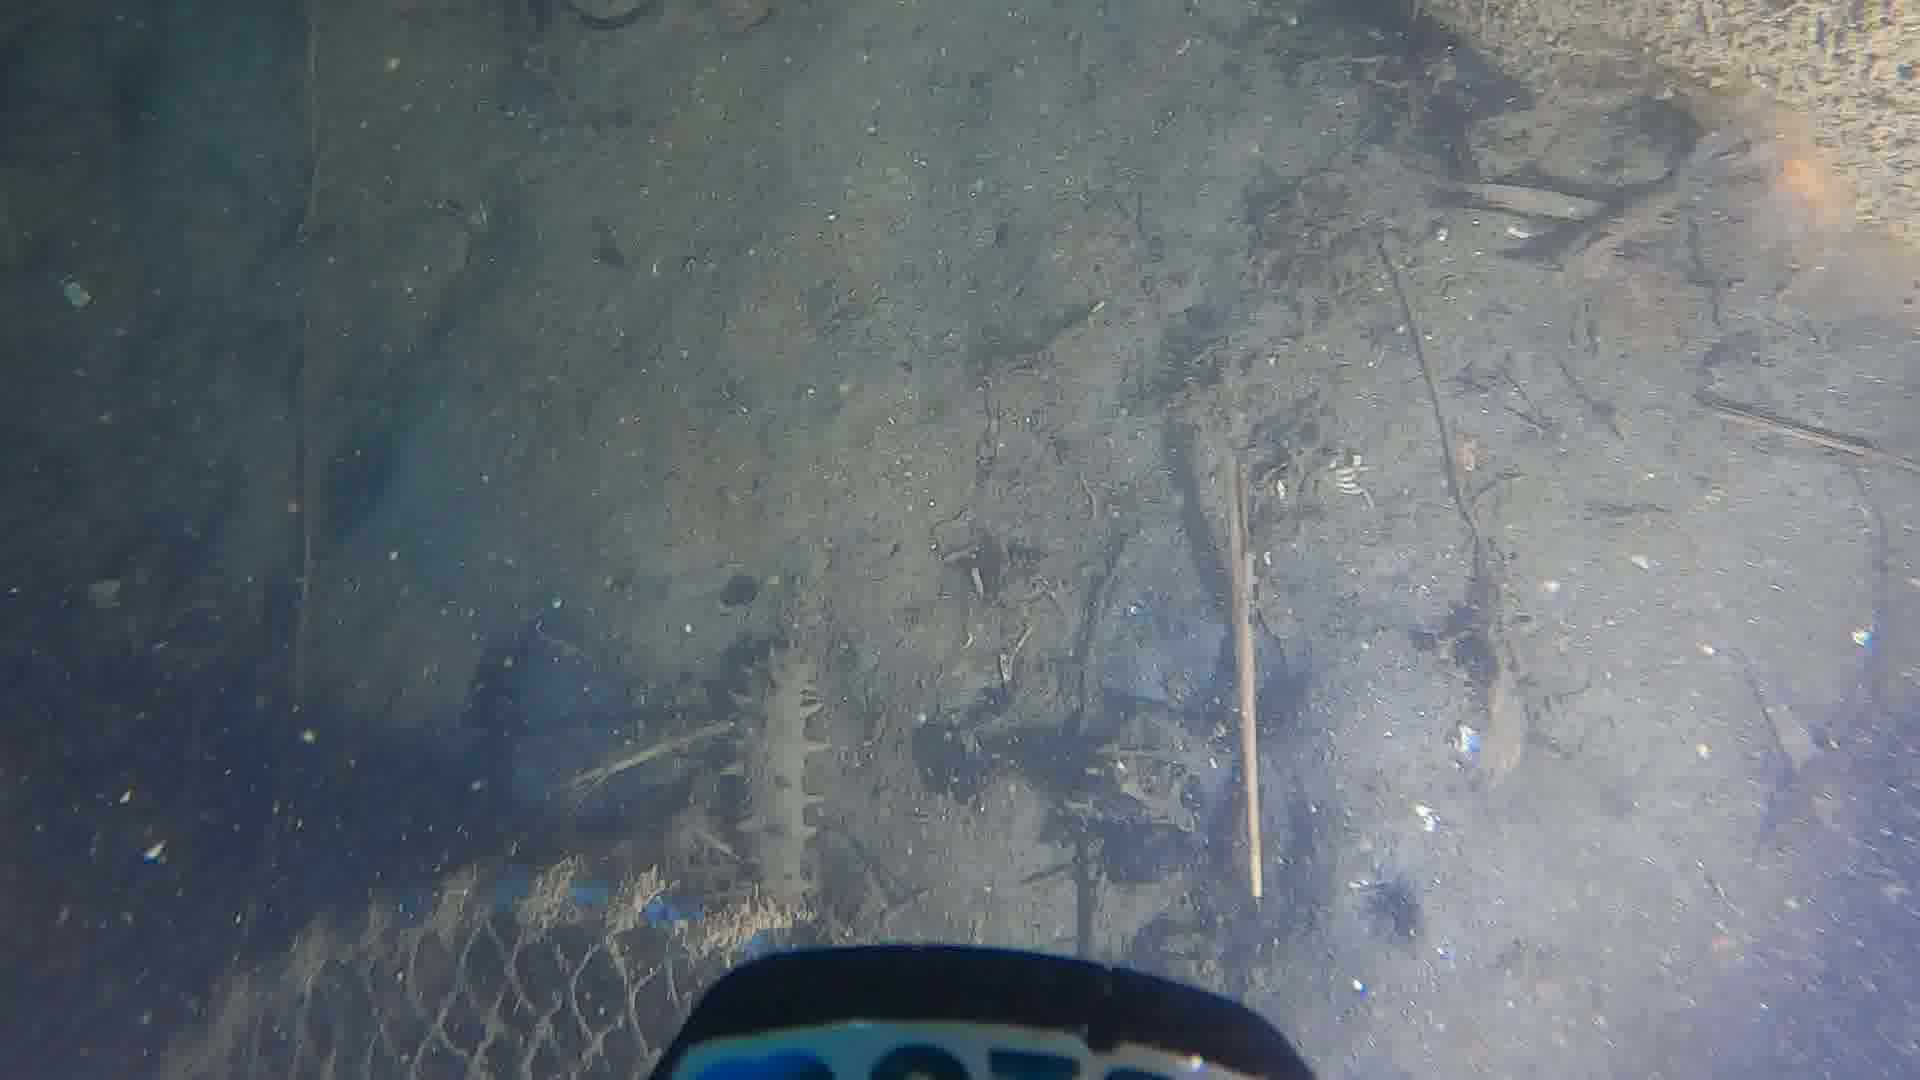circular fish trap: (135, 872, 796, 1080)
